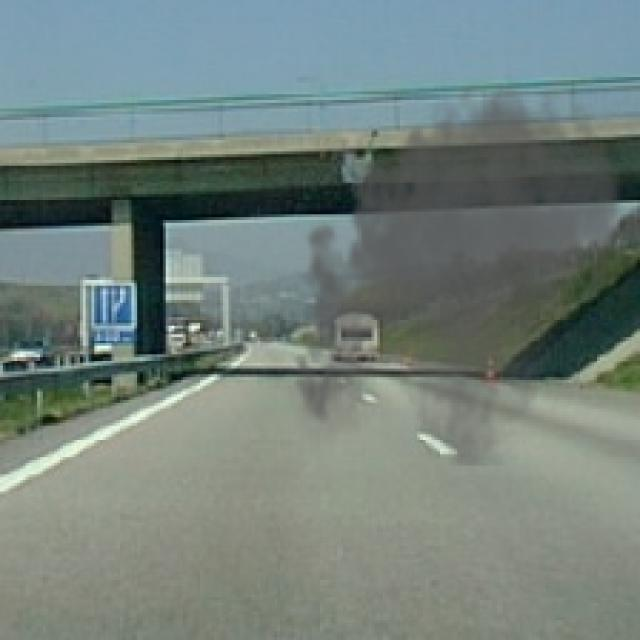smoke: (283, 68, 628, 466)
